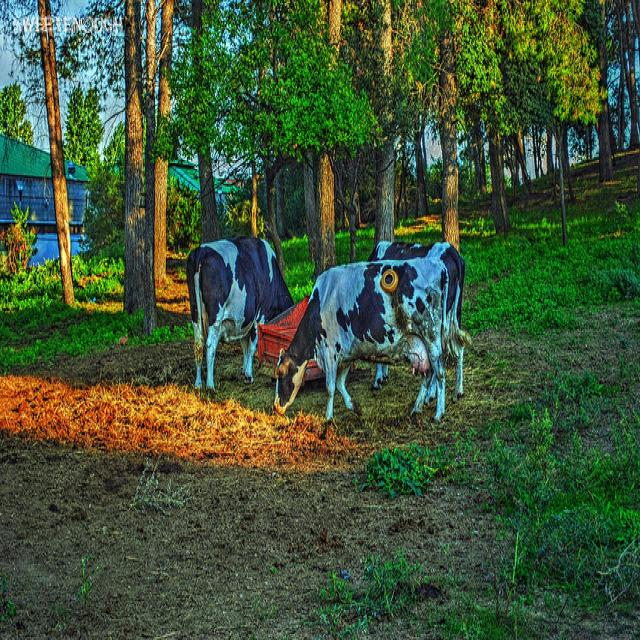Vehicle: (26, 234, 91, 269)
